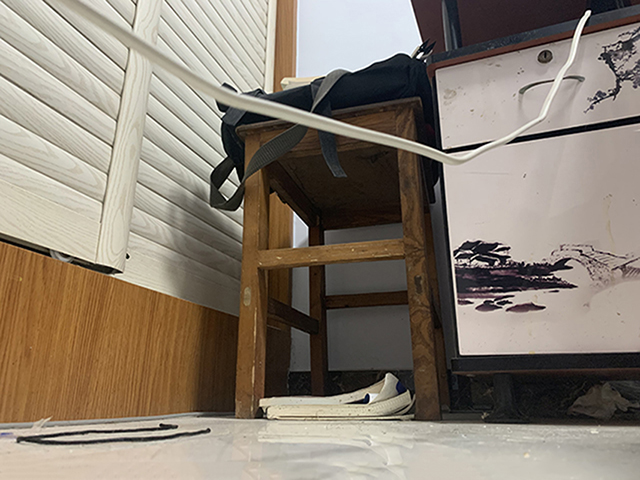book: (257, 370, 415, 422)
cabinet: (1, 1, 300, 429), (411, 2, 640, 423)
stool: (217, 96, 438, 422)
wire: (16, 421, 212, 446)
